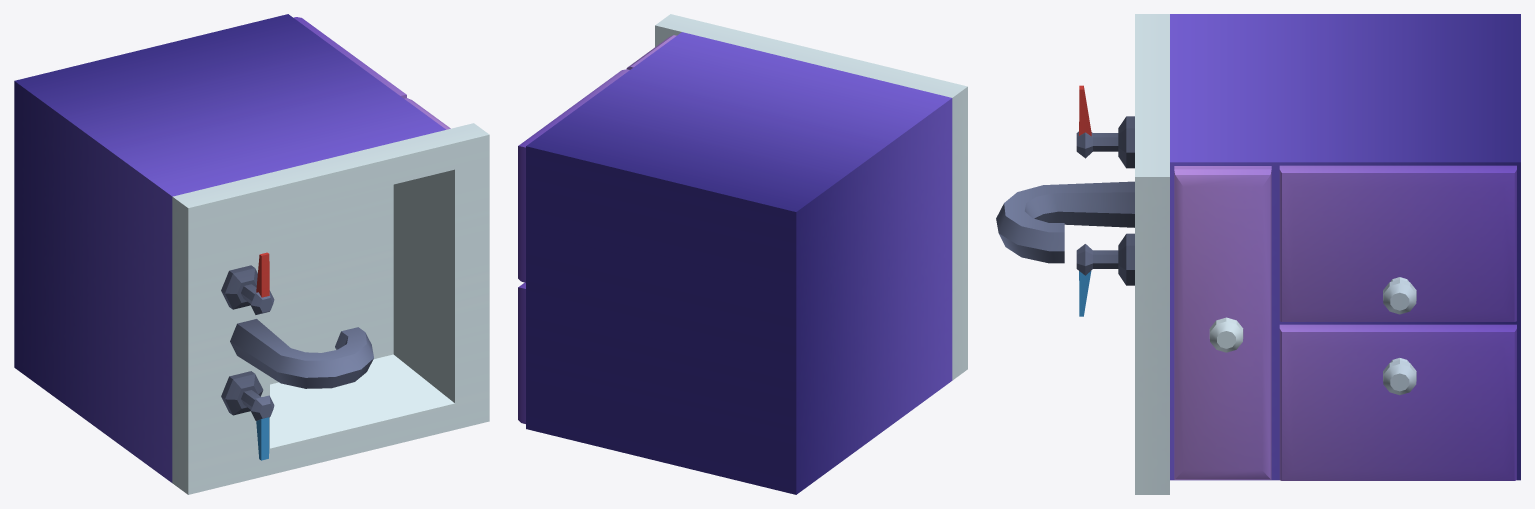
The model's file is Sink.fbx.
3 renders of one model, left to right at view 1: azimuth 30°, elevation 25°; view 2: azimuth 150°, elevation 25°; view 3: azimuth 270°, elevation 25°, orthographic. The views are drawn at different scales.
Parts seen in each view (by area): view 1: Counter.001; view 2: Counter.001; view 3: Counter.001.
Part boxes in pixels (x1,y1,x2,y2): Counter.001: (14, 14, 489, 494); Counter.001: (518, 14, 967, 494); Counter.001: (996, 14, 1520, 494).
Bounding box in the file's own units: 114 × 100 × 150.
